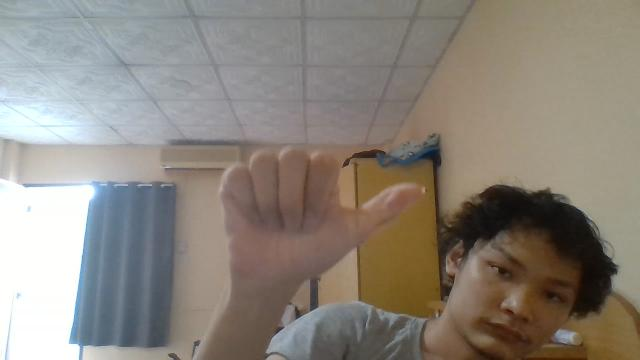left: (218, 144, 426, 296)
